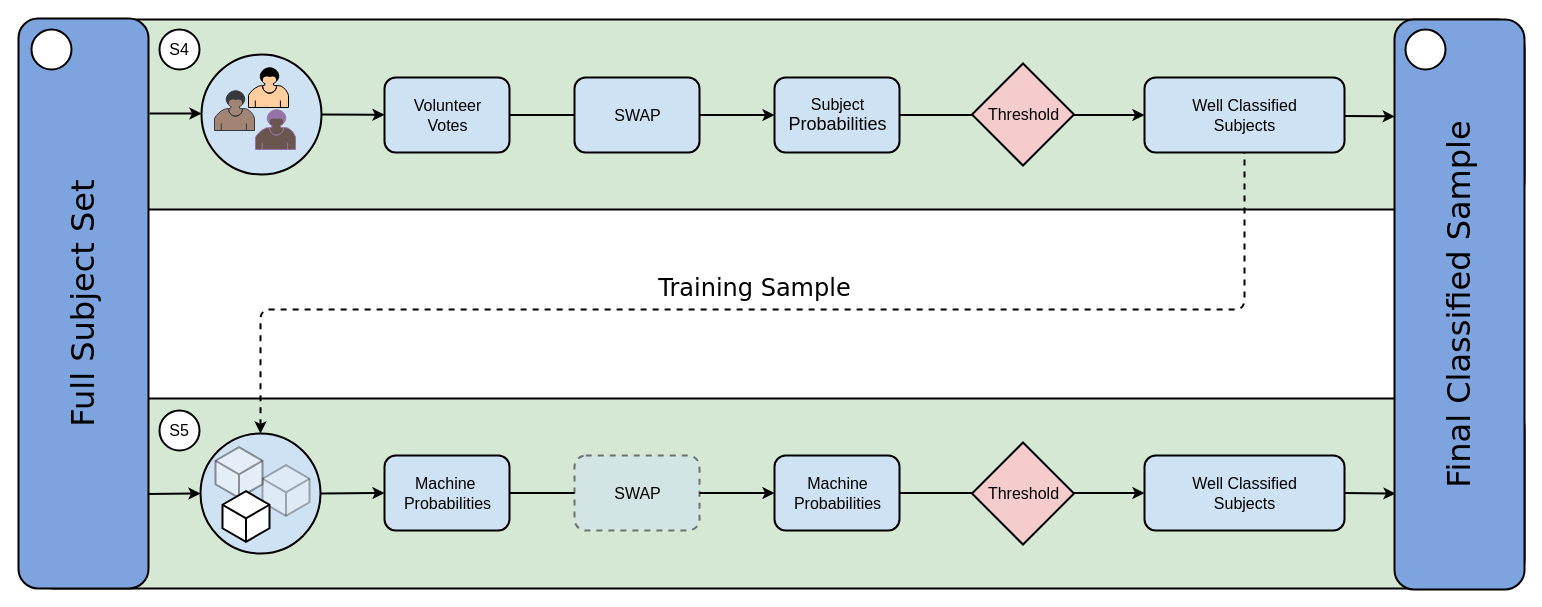
Image size: 1542x607. Some labels were removed from this diagram. The centre of each missing label's shape, as x and y in pixels:
"S3" goes at pixel 51 49.
"S6" goes at pixel 1425 49.
